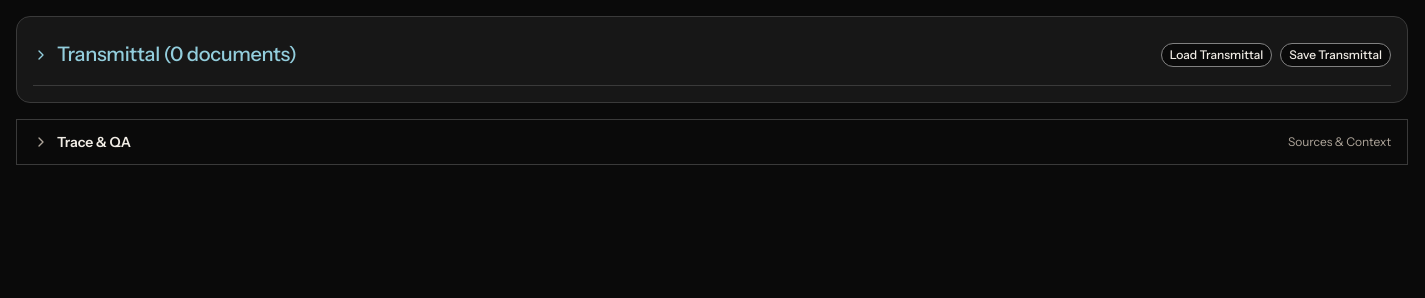
Test case: DraftReviewPanel › saves the curated repository selection into the transmittal list
Expected: the button "Load Transmittal" is shown, [1161,43,1272,67]
Click the button "Save Transmittal" at (1336, 55), box [1280,43,1391,67]
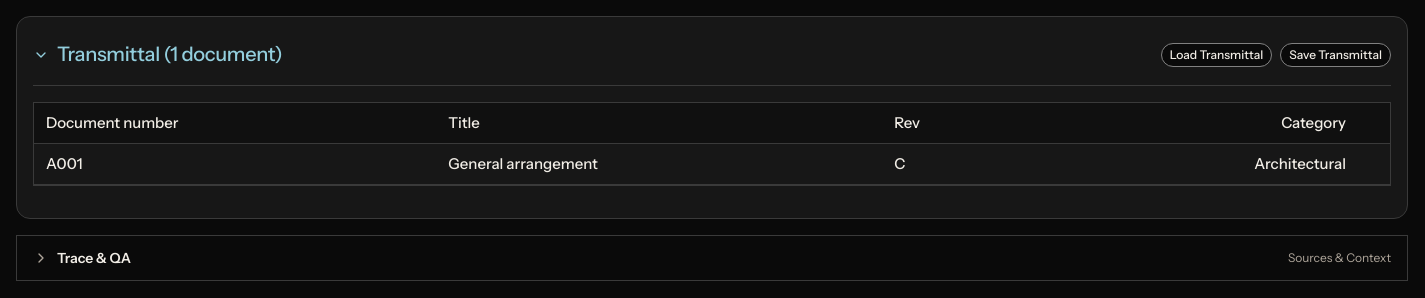
Result: the button "Transmittal (1 document)" is shown at [33,33,1153,77]
Result: the text "General arrangement" is shown at [436,144,882,184]
